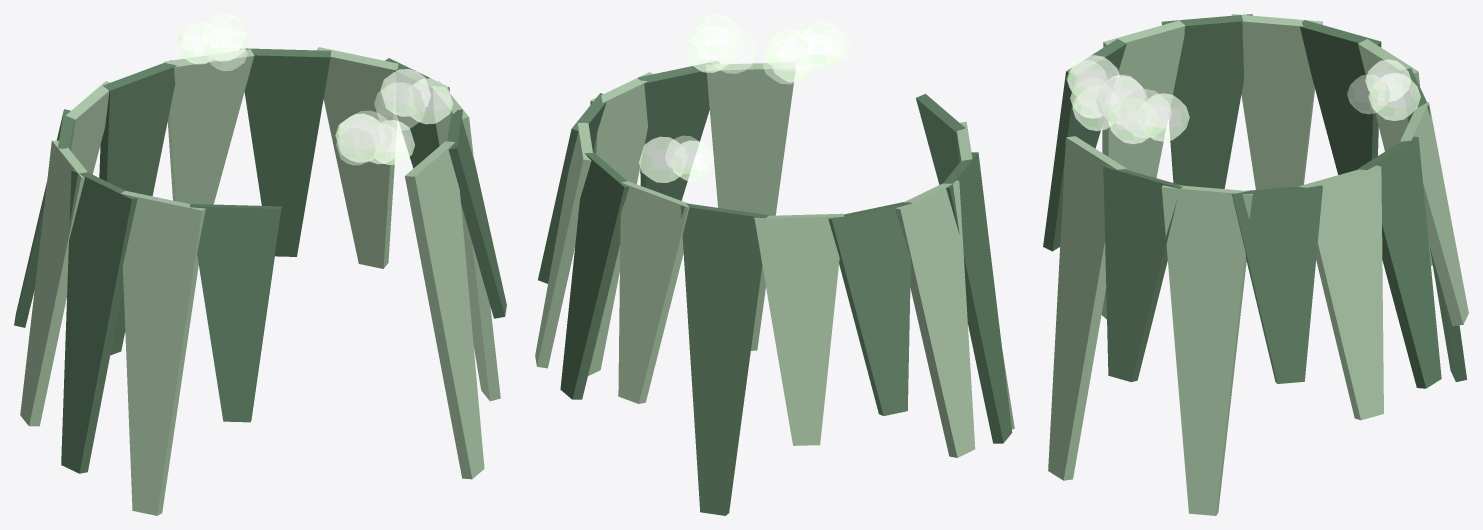
File: hungry_ghost_rags.glb
The picture shows the model from 3 angles, left to right: view 1: azimuth 30°, elevation 25°; view 2: azimuth 150°, elevation 25°; view 3: azimuth 270°, elevation 25°; orthographic projection. The views are drawn at different scales.
Parts seen in each view (by area): view 1: hungry_ghost_rags; view 2: hungry_ghost_rags; view 3: hungry_ghost_rags.
Boxes of the visible parts, x1,y1,x2,y2 form: hungry_ghost_rags: (14,14,506,515); hungry_ghost_rags: (535,14,1014,515); hungry_ghost_rags: (1043,14,1468,515).
Size of the model in its own units: 1.1 by 0.8886 by 0.9221.
